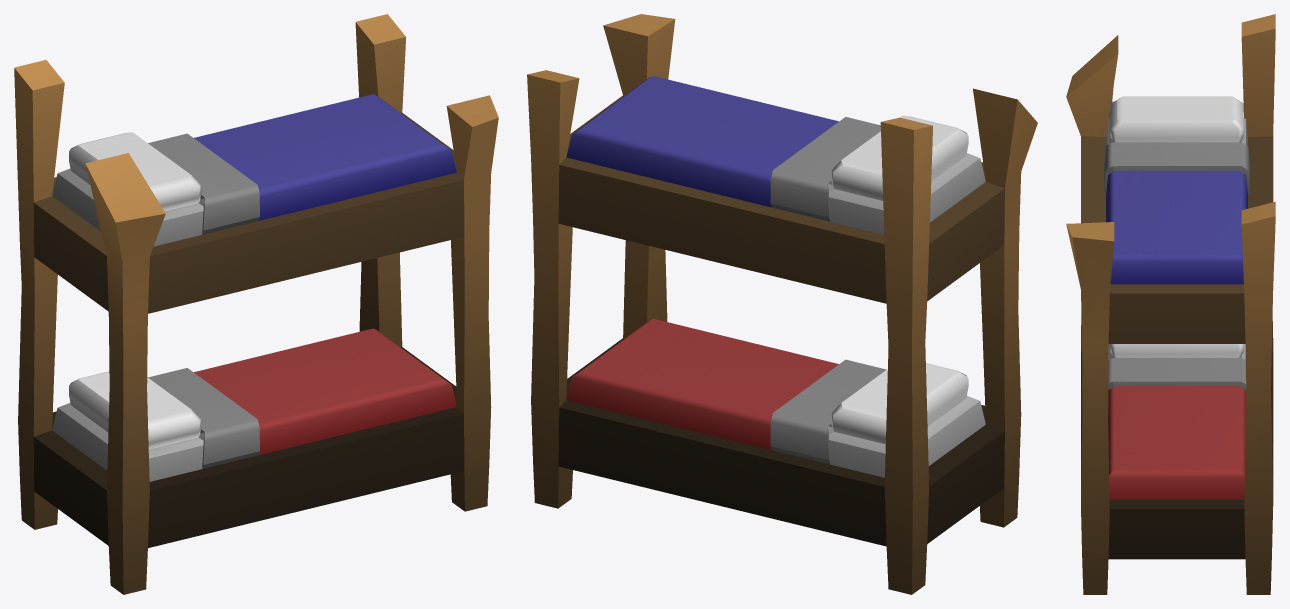
The model's file is letto_a_castello.fbx.
The picture shows the model from 3 angles, left to right: view 1: azimuth 30°, elevation 25°; view 2: azimuth 150°, elevation 25°; view 3: azimuth 270°, elevation 25°; orthographic projection. The views are drawn at different scales.
Visible parts, largest first — view 1: SM_letto_castello; view 2: SM_letto_castello; view 3: SM_letto_castello.
Part boxes in pixels (left/top/right/bottom): SM_letto_castello: left=14, top=14, right=498, bottom=594; SM_letto_castello: left=527, top=14, right=1037, bottom=594; SM_letto_castello: left=1066, top=14, right=1275, bottom=594.
Bounding box in the file's own units: 481 × 517 × 236.
